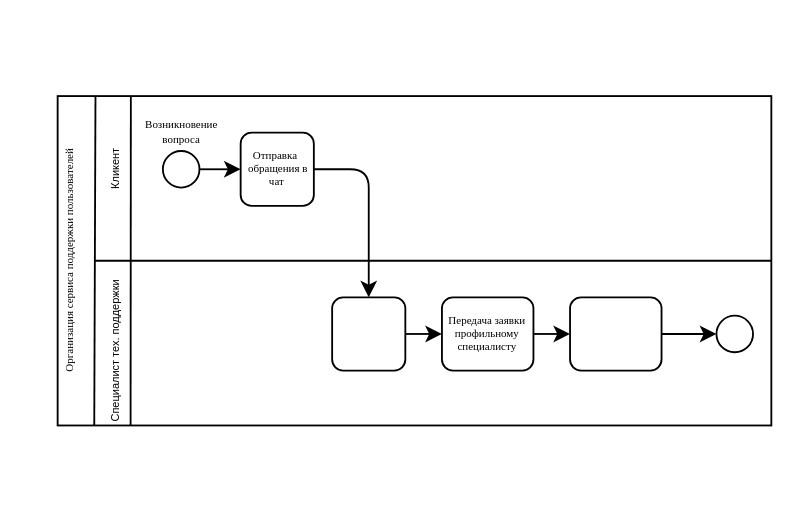
Image size: 805x520. Some labels were removed from this diagram. The centre of each missing label's shape, as x and y in pixels:
"Обработка обращения" belongs at pixel 367 333.
"Предоставление ответа в чате" belongs at pixel 615 333.
